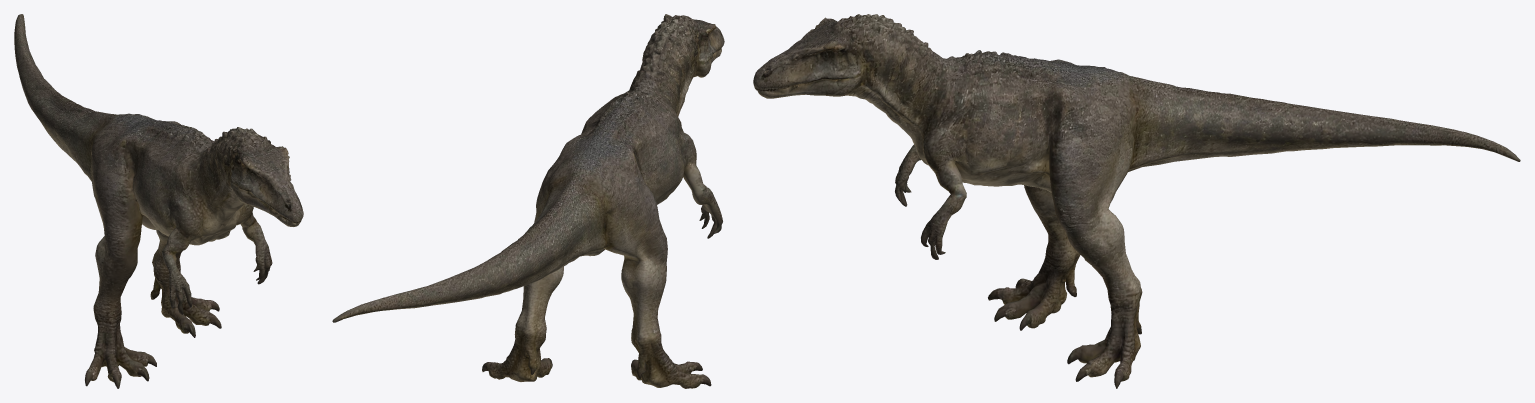
The model's file is giganotosaurus.glb.
3 views of the same model, side by side, from view 1: azimuth 30°, elevation 25°; view 2: azimuth 150°, elevation 25°; view 3: azimuth 270°, elevation 25° (orthographic). The views are drawn at different scales.
Parts seen in each view (by area): view 1: dino; view 2: dino; view 3: dino.
Part boxes in pixels (left/top/right/bottom): dino: left=14, top=14, right=303, bottom=388; dino: left=332, top=14, right=724, bottom=388; dino: left=753, top=14, right=1520, bottom=388.
Bounding box in the file's own units: 3.77 × 5.74 × 12.
Materials: 1 (1 with a texture image).
